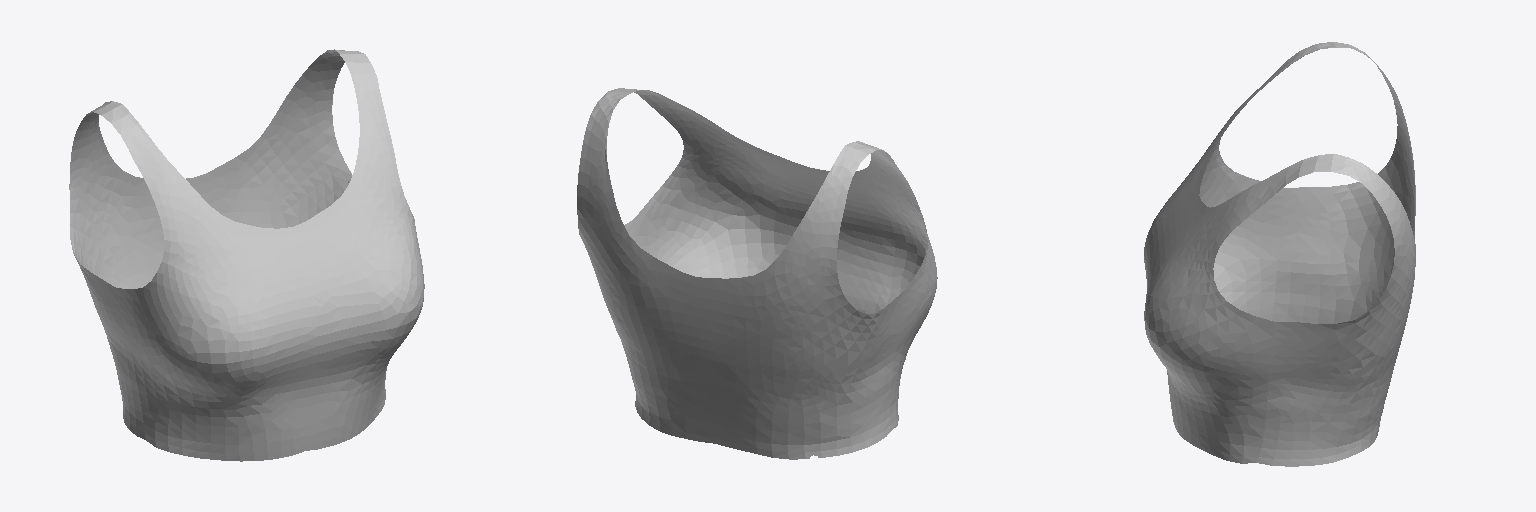
Rendered from tanktop.obj.
3 views of the same model, side by side, from view 1: azimuth 30°, elevation 25°; view 2: azimuth 150°, elevation 25°; view 3: azimuth 270°, elevation 25° (orthographic).
Visible parts, largest first — view 1: tanktop2; view 2: tanktop2; view 3: tanktop2.
Part boxes in pixels (x1,y1,x2,y2): tanktop2: (69, 49, 424, 461); tanktop2: (577, 88, 937, 459); tanktop2: (1144, 42, 1415, 466).
Size of the model in its own units: 36.19 by 38.2 by 29.95.